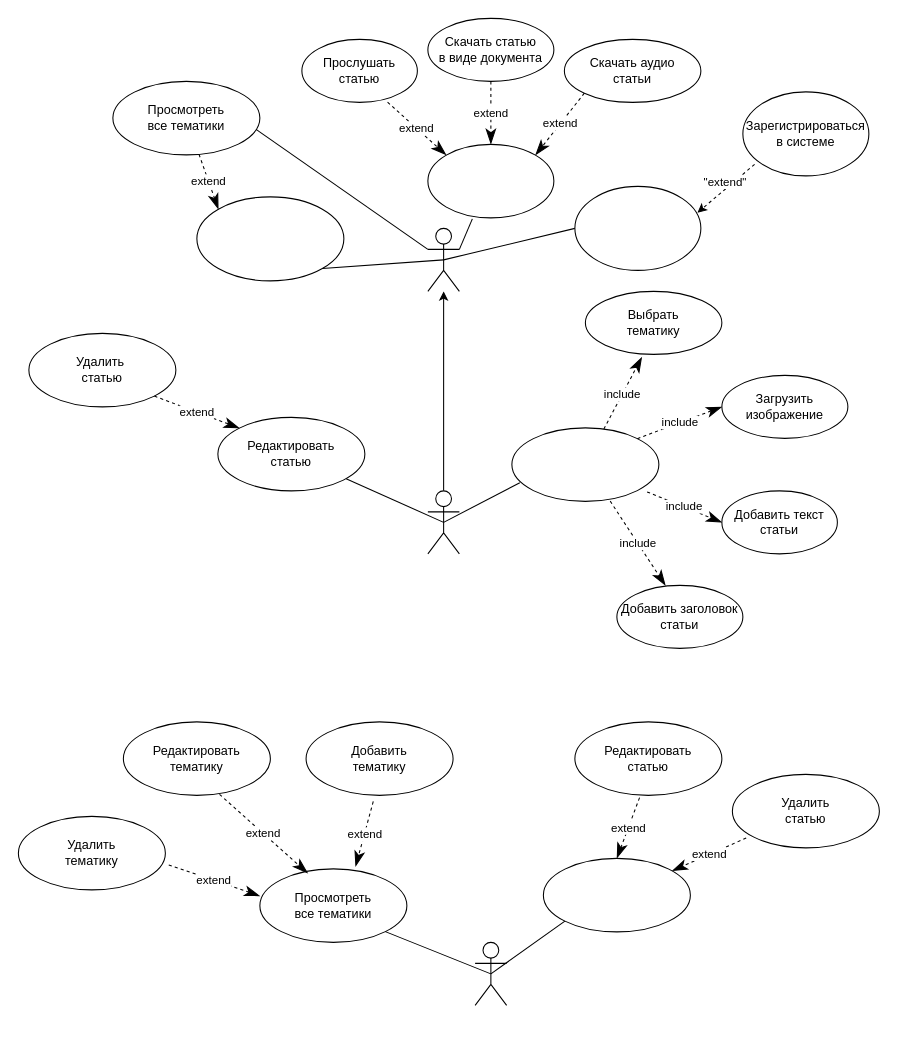
Image size: 898x1046. Some labels were removed from this diagram. Here are the shapes that lost their labels. From the top down, the centre of each, then its label:
point (490, 180): Просмотреть статью
point (270, 238): Просмотреть статьи выбранной тематики
point (637, 227): Авторизоваться в системе
point (443, 259): Неавторизованный пользователь
point (585, 464): Добавить статью
point (443, 522): Авторизованный пользователь
point (616, 894): Просмотреть все статьи
point (490, 973): Администратор
